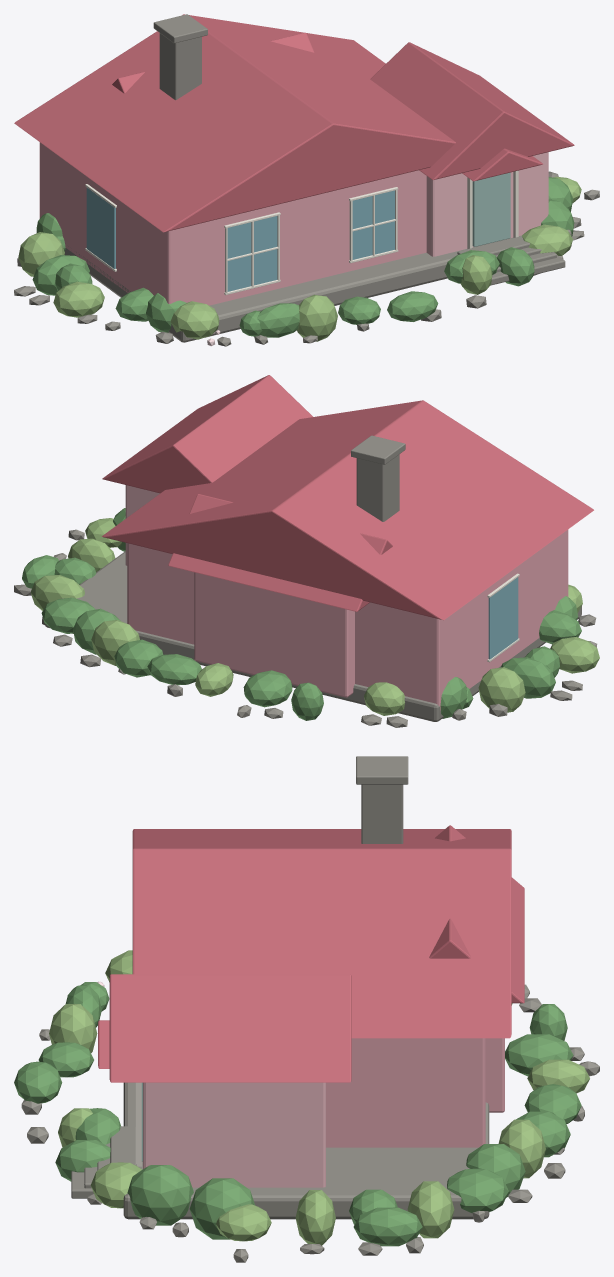
The model's file is pink_house_reference_v1.glb.
3 renders of one model, top to bottom at view 1: azimuth 30°, elevation 25°; view 2: azimuth 150°, elevation 25°; view 3: azimuth 270°, elevation 25°, orthographic. The views are drawn at different scales.
Visible parts, largest first — view 1: MainCrossGableRoof, MainBody, FrontGableRoof, StoneFoundation, FrontWing, FrontWindowLeft_Glass, FrontDoor, FrontWindowMid_Glass, Chimney, SideWindowLeft_Glass, Shrub_25, Shrub_19 (+20 smaller); view 2: MainCrossGableRoof, MainBody, RearWing, FrontGableRoof, StoneFoundation, RearGableRoof, Chimney, SideWindowLeft_Glass, Shrub_16, Shrub_11, Shrub_17, Shrub_09 (+18 smaller); view 3: MainCrossGableRoof, FrontGableRoof, FrontWing, MainBody, StoneFoundation, Shrub_32, RearGableRoof, Chimney, Shrub_33, Shrub_03, Shrub_05, Shrub_04 (+21 smaller).
Part boxes in pixels (left/top/right/bottom): MainCrossGableRoof: left=14, top=14, right=455, bottom=232; MainBody: left=39, top=142, right=426, bottom=305; FrontGableRoof: left=370, top=42, right=574, bottom=179; StoneFoundation: left=64, top=229, right=571, bottom=342; FrontWing: left=426, top=152, right=548, bottom=256; FrontWindowLeft_Glass: left=227, top=216, right=277, bottom=291; FrontDoor: left=472, top=172, right=510, bottom=246; FrontWindowMid_Glass: left=352, top=190, right=394, bottom=259; Chimney: left=159, top=33, right=201, bottom=100; SideWindowLeft_Glass: left=86, top=187, right=115, bottom=268; Shrub_25: left=297, top=294, right=337, bottom=341; Shrub_19: left=53, top=281, right=104, bottom=317; MainCrossGableRoof: left=102, top=400, right=593, bottom=620; MainBody: left=127, top=529, right=568, bottom=710; RearWing: left=194, top=572, right=354, bottom=697; FrontGableRoof: left=102, top=375, right=312, bottom=493; StoneFoundation: left=45, top=551, right=581, bottom=721; RearGableRoof: left=168, top=494, right=392, bottom=611; Chimney: left=356, top=454, right=399, bottom=521; SideWindowLeft_Glass: left=488, top=577, right=518, bottom=659; Shrub_16: left=478, top=667, right=525, bottom=712; Shrub_11: left=243, top=670, right=292, bottom=707; Shrub_17: left=501, top=657, right=555, bottom=698; Shrub_09: left=147, top=654, right=201, bottom=685; MainCrossGableRoof: left=132, top=829, right=511, bottom=1038; FrontGableRoof: left=109, top=974, right=351, bottom=1082; FrontWing: left=143, top=1082, right=325, bottom=1187; MainBody: left=326, top=1038, right=485, bottom=1147; StoneFoundation: left=123, top=1082, right=489, bottom=1219; Shrub_32: left=127, top=1165, right=193, bottom=1225; RearGableRoof: left=429, top=825, right=524, bottom=1003; Chimney: left=361, top=784, right=403, bottom=843; Shrub_33: left=189, top=1178, right=255, bottom=1239; Shrub_03: left=353, top=1207, right=422, bottom=1246; Shrub_05: left=447, top=1168, right=508, bottom=1212; Shrub_04: left=407, top=1181, right=454, bottom=1238.
Bounding box in the file's own units: 60.39 × 24.34 × 44.84.
